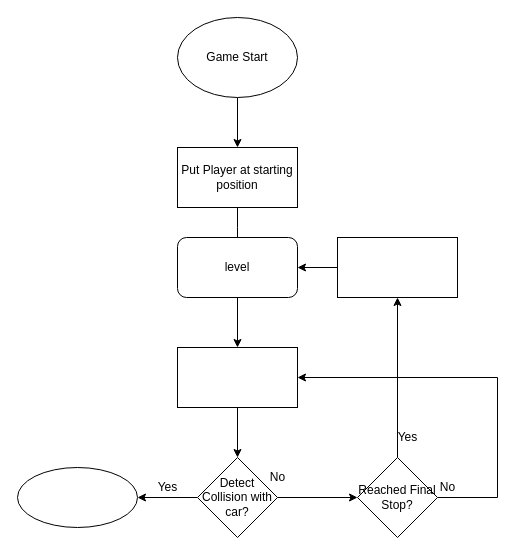
Some shapes in this 523 by 555 pixel diagram are drawn without their labels. Here are the shapes that lost their labels. From the top down, the box of each, then its label:
(336, 236, 458, 298): level += 1
(176, 346, 298, 408): generate cars randomly user can move
(16, 466, 138, 528): Game Over
